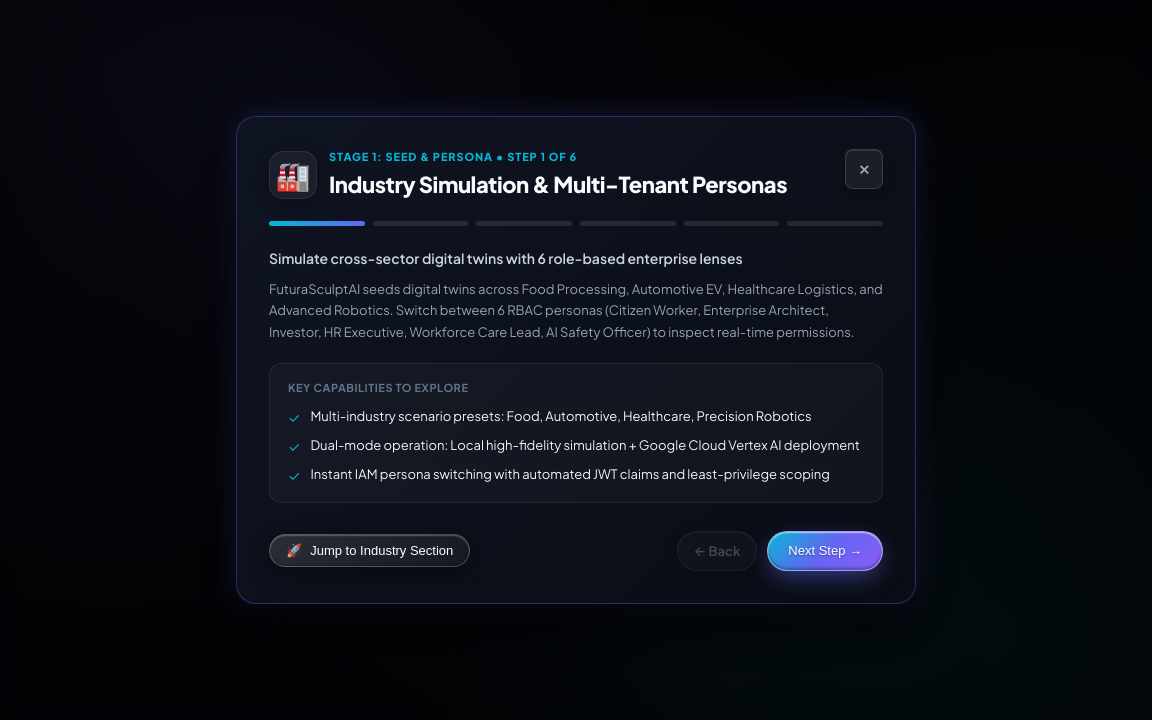
GuidedTourModal Component › renders step 1, displays badge and key features, and navigates forwards and backwards
Expected: the text "STAGE 1: SEED & PERSONA • STEP 1 OF 6" is shown, [329,150,577,163]
Expected: the heading "Industry Simulation & Multi-Tenant Personas" is shown, [329,168,787,201]
Note: Next step button
Click the button "Next Step →" at (825,551), box [767,531,883,571]
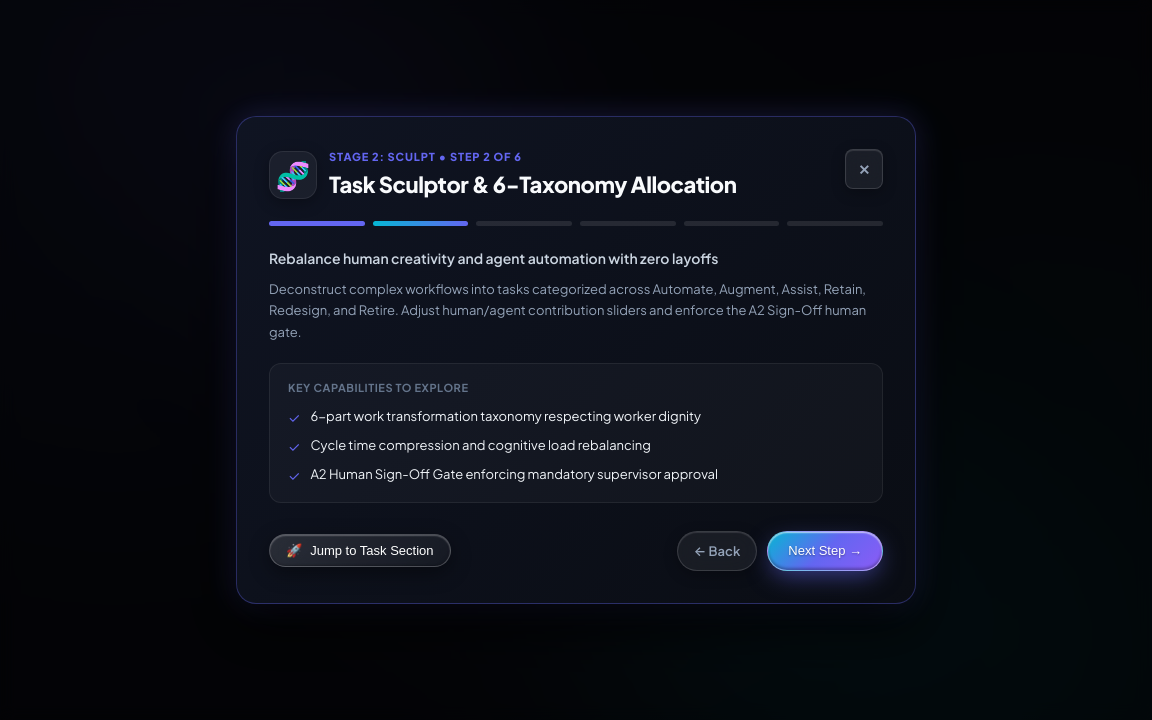
Expected: the text "STAGE 2: SCULPT • STEP 2 OF 6" is shown, [329,150,522,163]
Expected: the heading "Task Sculptor & 6-Taxonomy Allocation" is shown, [329,168,736,201]
Expected: the button "← Back" is enabled
Click the button "← Back" at (717,551), box [677,531,757,571]
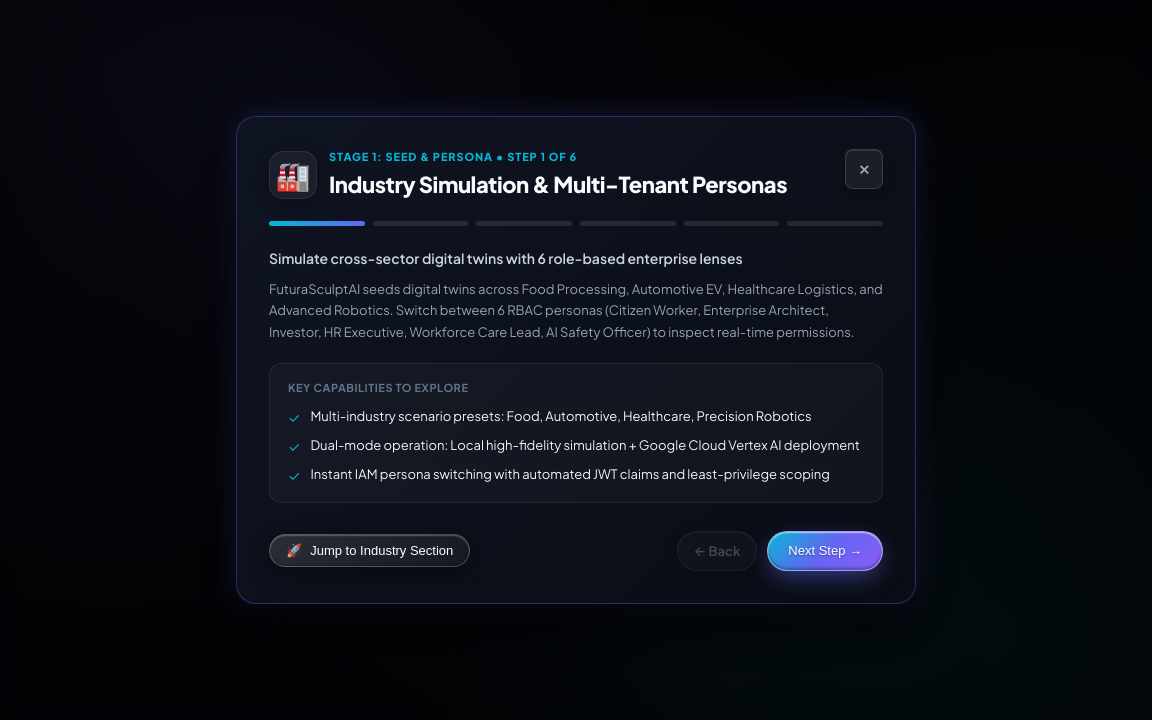
Expected: the text "STAGE 1: SEED & PERSONA • STEP 1 OF 6" is shown, [329,150,577,163]
